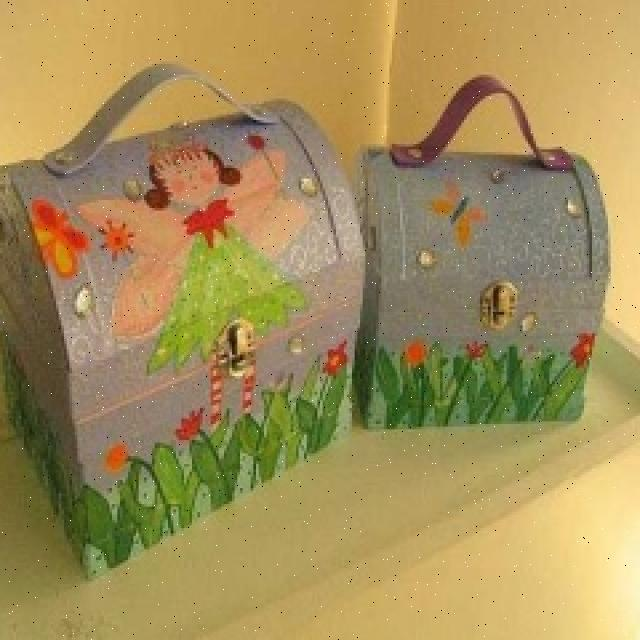box: (29, 67, 354, 546), (372, 62, 618, 446)
